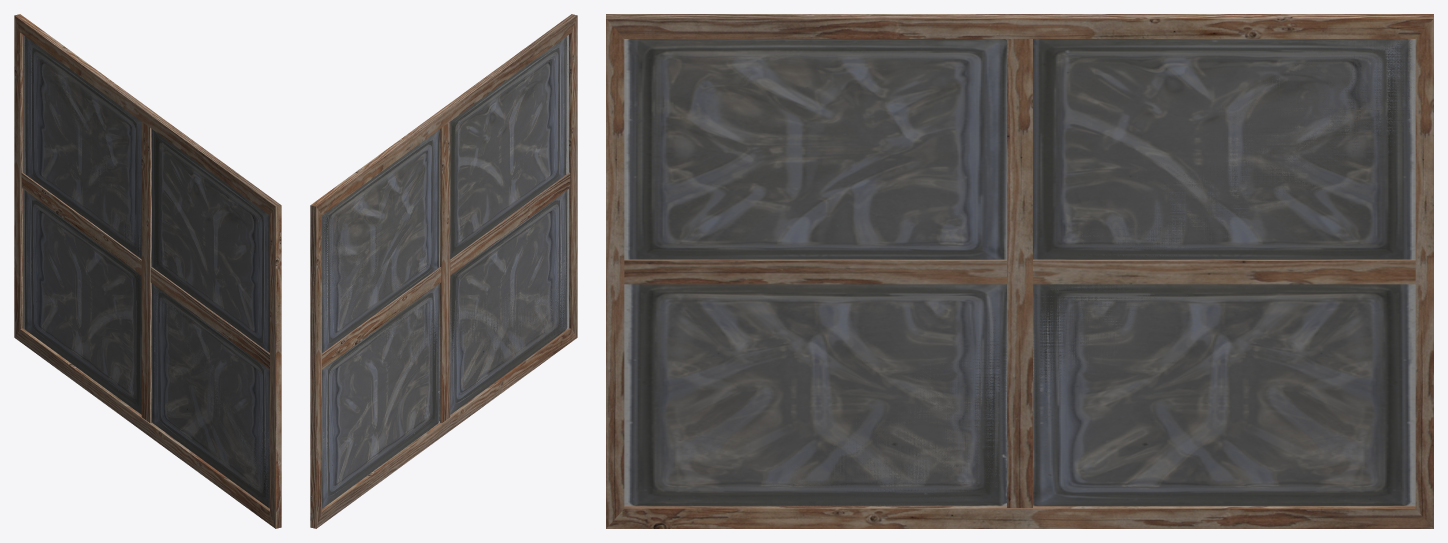
Rendered from Window.fbx.
3 renders of one model, left to right at view 1: azimuth 30°, elevation 25°; view 2: azimuth 150°, elevation 25°; view 3: azimuth 270°, elevation 25°, orthographic. The views are drawn at different scales.
Visible parts, largest first — view 1: Window; view 2: Window; view 3: Window.
Part boxes in pixels (x1=…): Window: x1=14, y1=14, x2=281, y2=528; Window: x1=310, y1=14, x2=577, y2=528; Window: x1=606, y1=14, x2=1433, y2=528.
Size of the model in its own units: 0.0403 by 2.12 by 3.11.
